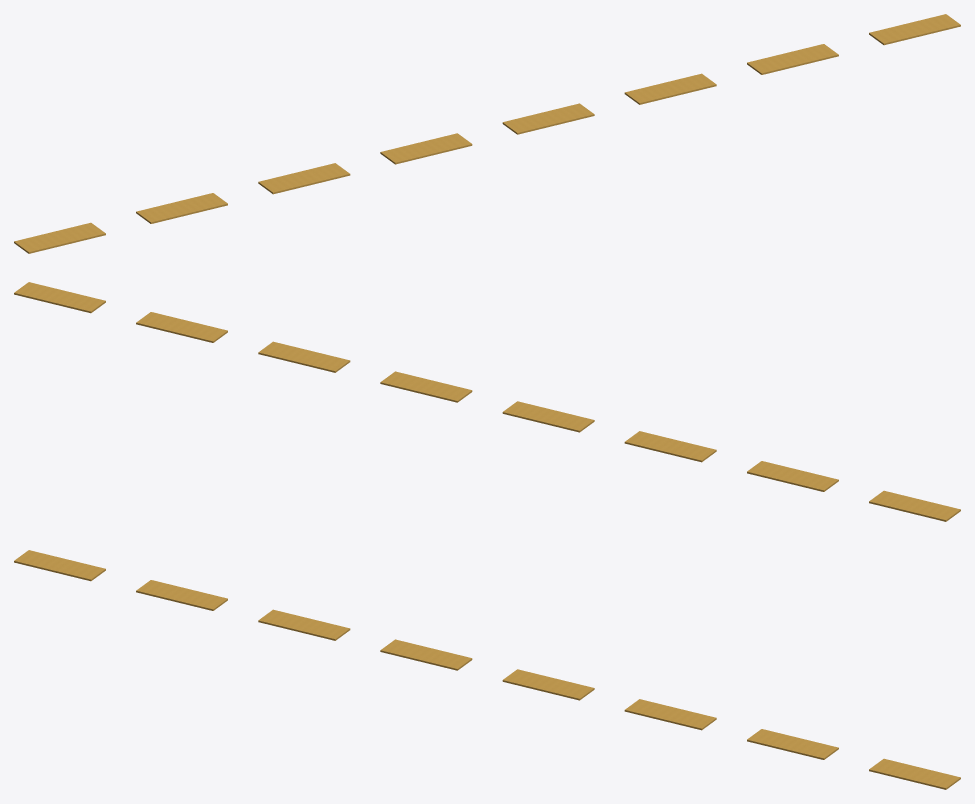
File: 212_L114_Motherboard_Silkscreen.obj
3 renders of one model, top to bottom at view 1: azimuth 30°, elevation 25°; view 2: azimuth 150°, elevation 25°; view 3: azimuth 330°, elevation 25°, orthographic.
Visible parts, largest first — view 1: 212_L114_Motherboard_Silkscreen__PSMAT__Gold_ENIG; view 2: 212_L114_Motherboard_Silkscreen__PSMAT__Gold_ENIG; view 3: 212_L114_Motherboard_Silkscreen__PSMAT__Gold_ENIG.
Boxes of the visible parts, x1,y1,x2,y2 form: 212_L114_Motherboard_Silkscreen__PSMAT__Gold_ENIG: (14,14,960,253); 212_L114_Motherboard_Silkscreen__PSMAT__Gold_ENIG: (14,282,960,521); 212_L114_Motherboard_Silkscreen__PSMAT__Gold_ENIG: (14,550,960,789).
Size of the model in its own units: 0.145 by 0.00025 by 0.004.
1 material, 1 textured.
